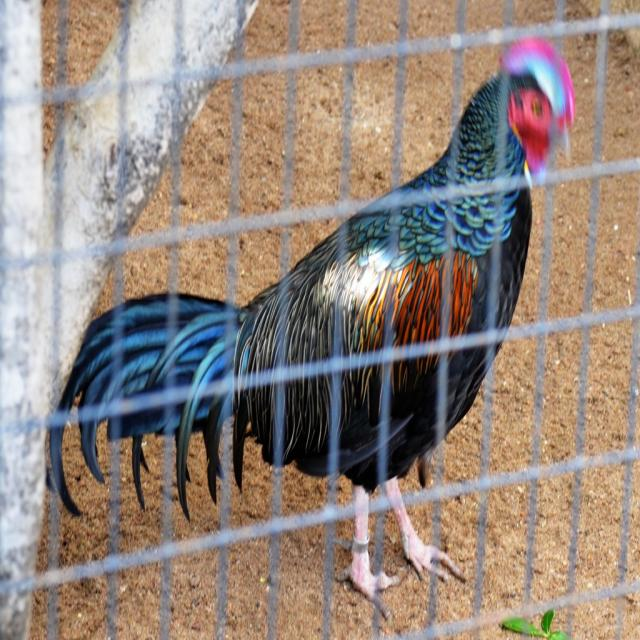Chicken: (73, 49, 565, 586)
